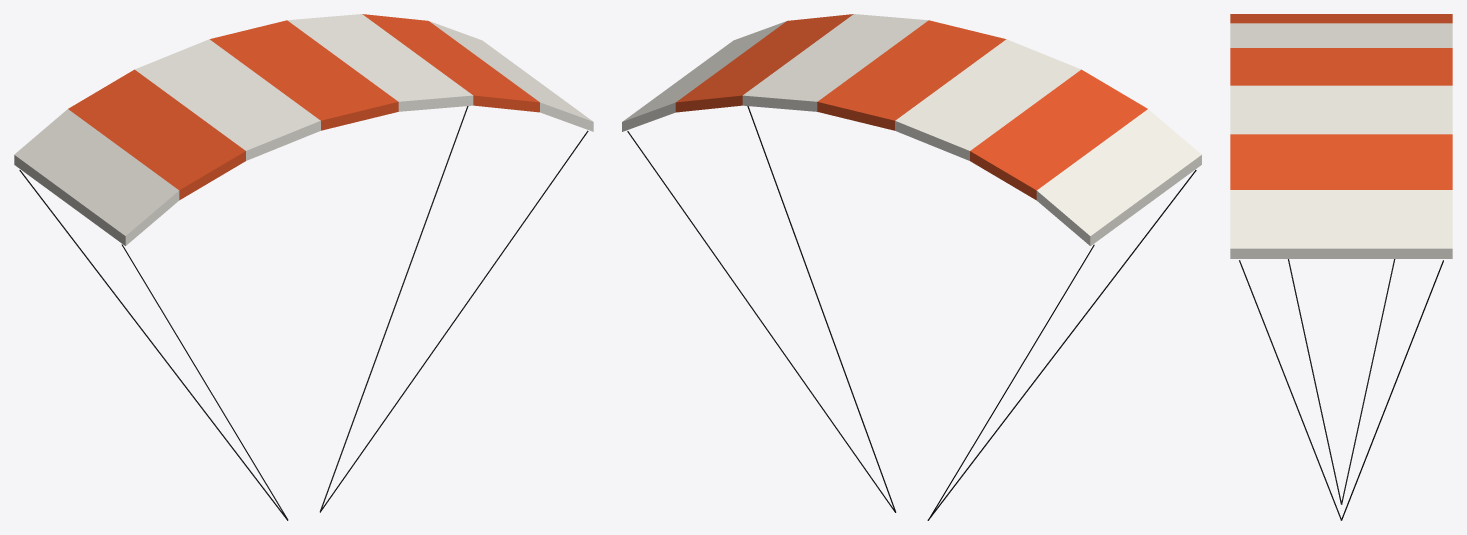
The model's file is parachute.glb.
3 renders of one model, left to right at view 1: azimuth 30°, elevation 25°; view 2: azimuth 150°, elevation 25°; view 3: azimuth 270°, elevation 25°, orthographic.
Parts seen in each view (by area): view 1: parachute_Body; view 2: parachute_Body; view 3: parachute_Body.
Part boxes in pixels (x1=…): parachute_Body: x1=14, y1=14, x2=593, y2=520; parachute_Body: x1=622, y1=14, x2=1201, y2=520; parachute_Body: x1=1230, y1=14, x2=1452, y2=520.
Bounding box in the file's own units: 5.82 × 5.31 × 2.4.
